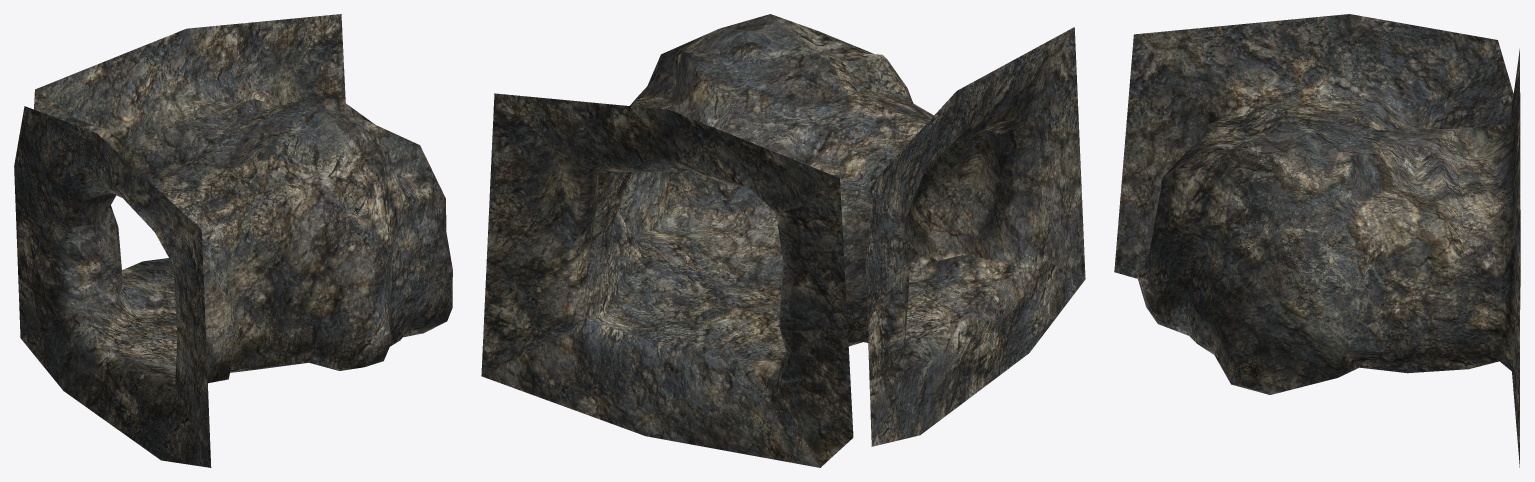
File: Module9_LOD1.fbx
3 views of the same model, side by side, from view 1: azimuth 30°, elevation 25°; view 2: azimuth 150°, elevation 25°; view 3: azimuth 270°, elevation 25° (orthographic). The views are drawn at different scales.
Visible parts, largest first — view 1: cave_el9_800:Group30362; view 2: cave_el9_800:Group30362; view 3: cave_el9_800:Group30362.
Part boxes in pixels (x1,y1,x2,y2): cave_el9_800:Group30362: (14, 14, 452, 467); cave_el9_800:Group30362: (481, 14, 1085, 467); cave_el9_800:Group30362: (1114, 14, 1520, 467).
Size of the model in its own units: 10.24 by 8.34 by 10.11.
